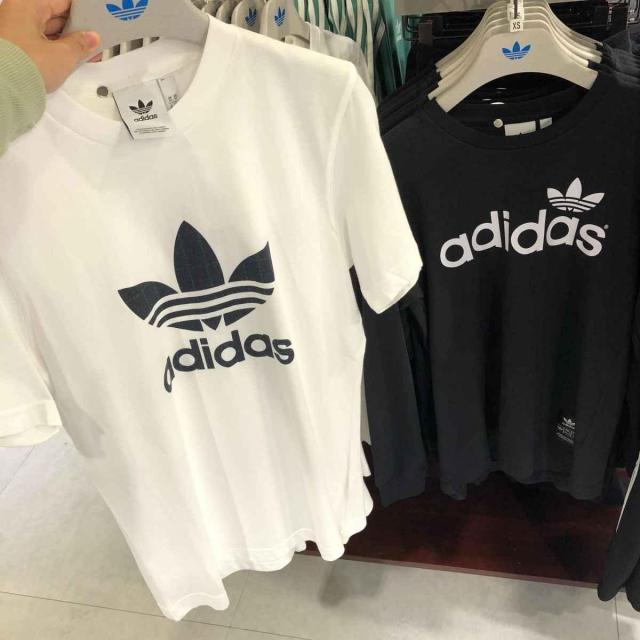Tshirt: (0, 18, 397, 633), (377, 69, 640, 508)
